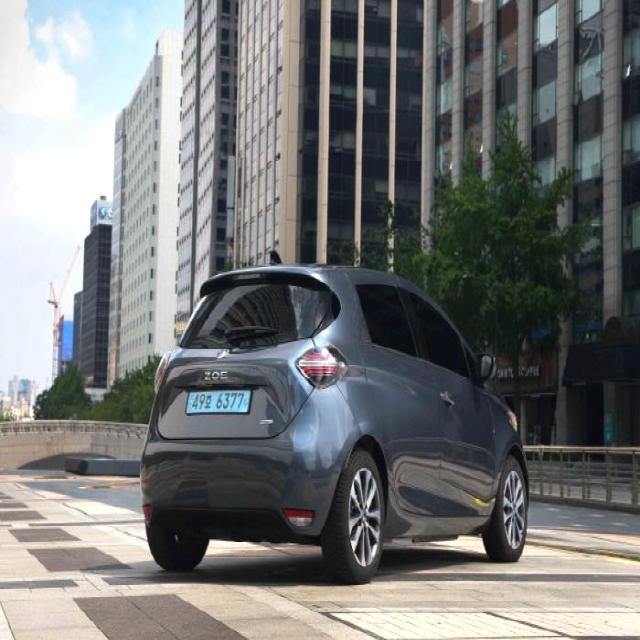EV_plate: (188, 384, 252, 418)
car: (139, 248, 531, 584)
